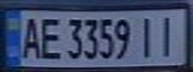3: (63, 15, 84, 61), (81, 16, 100, 61)
5: (97, 16, 118, 61)
9: (112, 15, 136, 60)
A: (15, 14, 42, 61)
E: (36, 14, 63, 61)
I: (154, 12, 184, 59), (136, 14, 160, 58)
